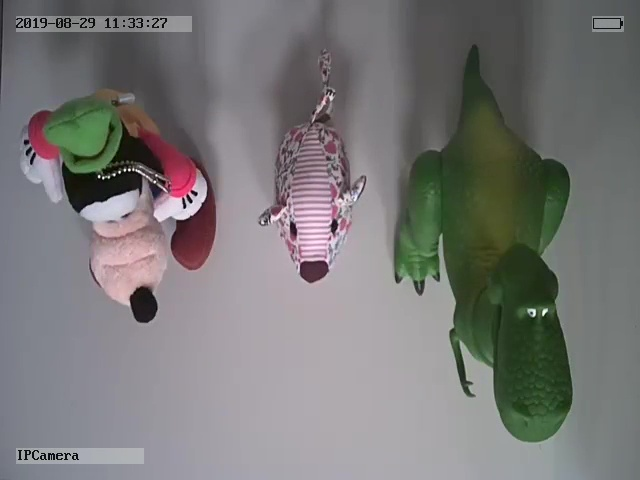goofy: (18, 85, 217, 323)
pig: (257, 47, 365, 283)
rex: (394, 44, 572, 443)
